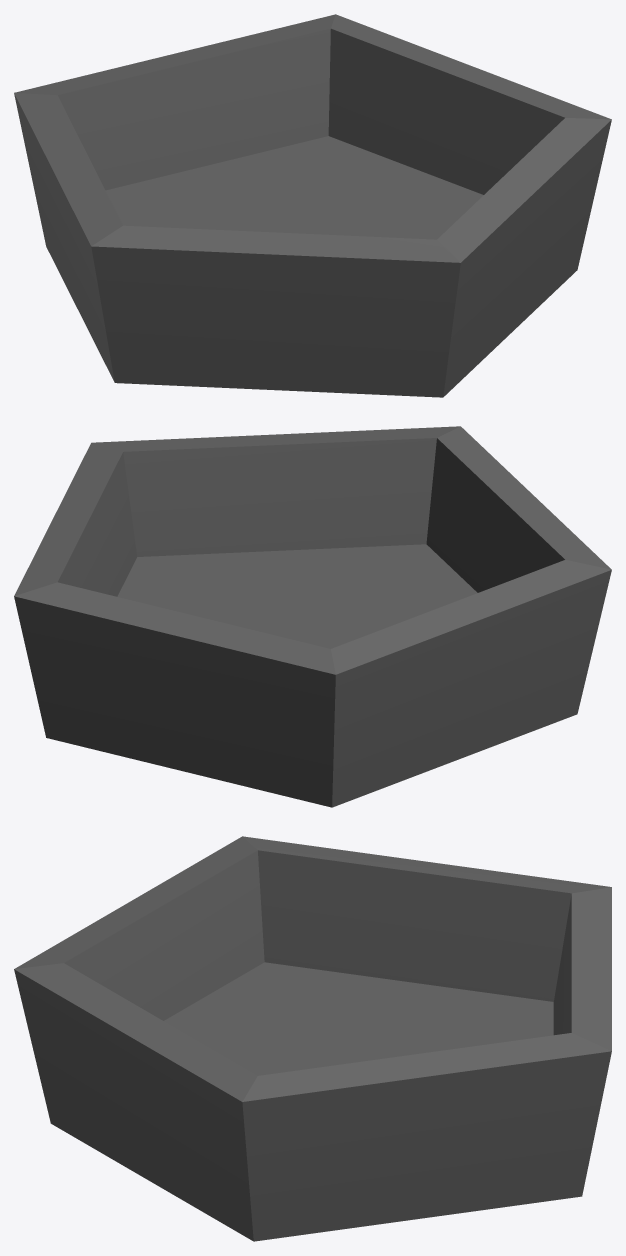
The model's file is Ashtray_1_A.fbx.
3 views of the same model, one above another, from view 1: azimuth 30°, elevation 25°; view 2: azimuth 150°, elevation 25°; view 3: azimuth 270°, elevation 25° (orthographic). The views are drawn at different scales.
Visible parts, largest first — view 1: Ashtray_1_A; view 2: Ashtray_1_A; view 3: Ashtray_1_A.
Boxes of the visible parts, <box> form: Ashtray_1_A: <box>14,14,611,397</box>; Ashtray_1_A: <box>14,426,611,807</box>; Ashtray_1_A: <box>14,836,611,1241</box>.
Size of the model in its own units: 18.72 by 5.27 by 17.8.
